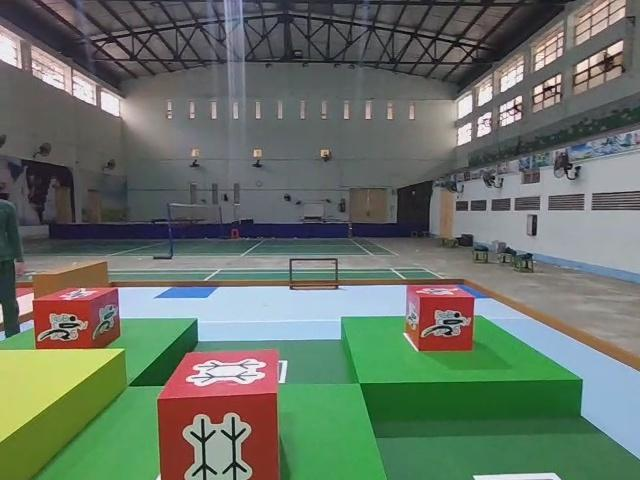R1: (31, 282, 123, 352), (403, 281, 478, 355)
R2 Real: (155, 347, 285, 480)
